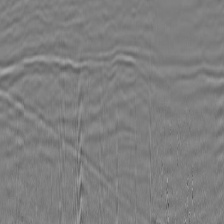cavities: (1, 71, 111, 123)
